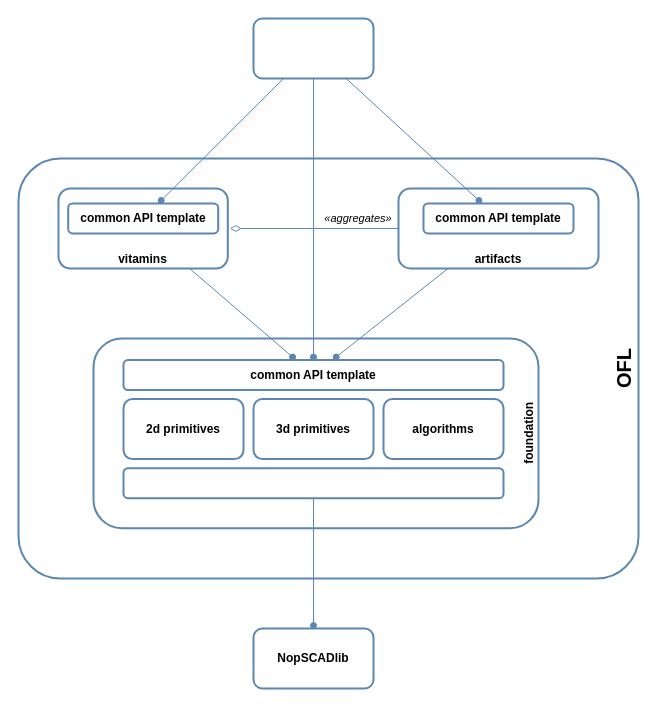
Some shapes in this 656 by 706 pixel diagram are drawn without their labels. The shapes that lost their labels are listed below. From the top down, each one's centre as x and y in pixels, then its label:
At pixel 313 48: "clients".
At pixel 313 483: "wrappers".
